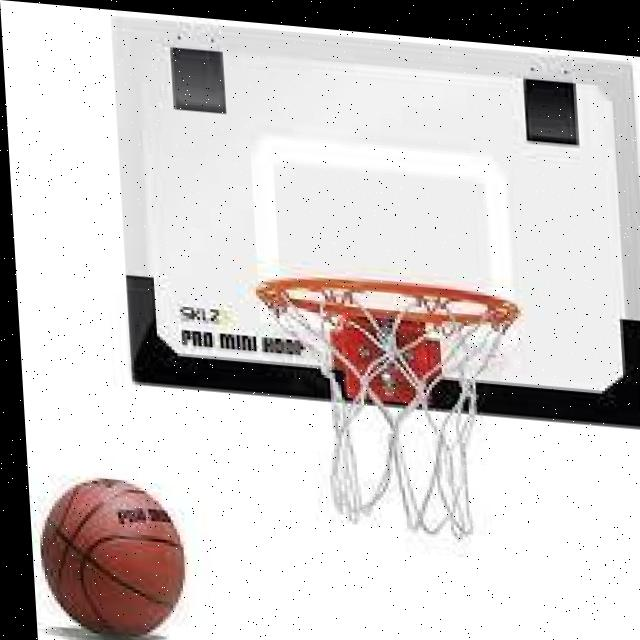basketball: (36, 472, 189, 639)
hoop: (255, 269, 535, 549)
